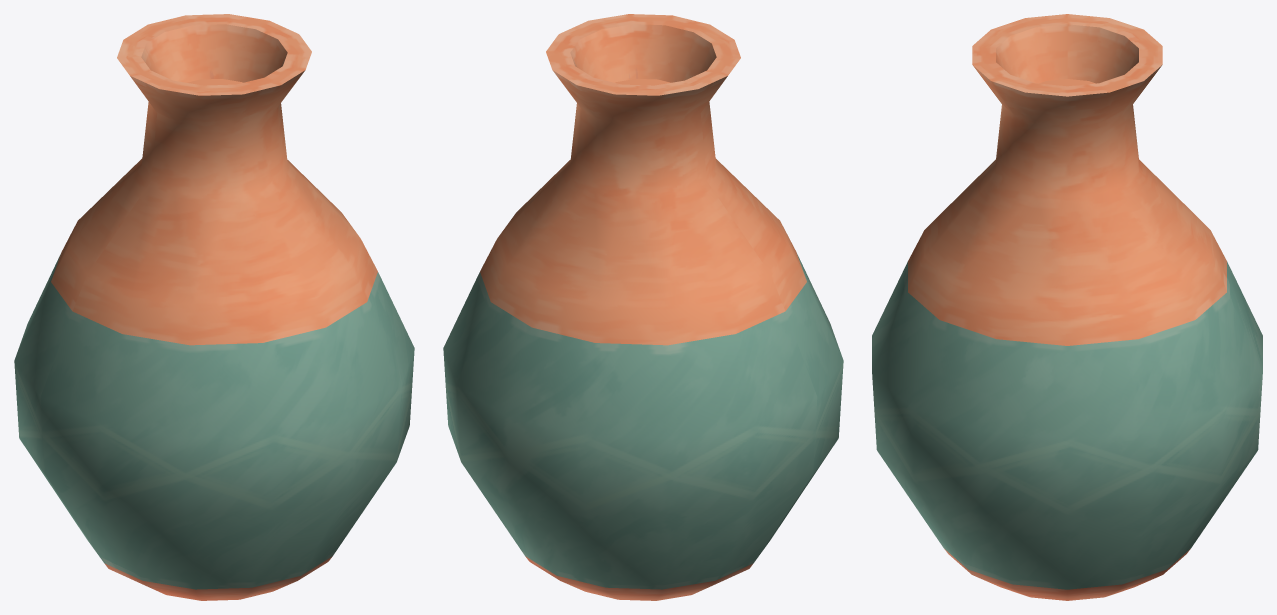
File: vase.fbx
3 views of the same model, side by side, from view 1: azimuth 30°, elevation 25°; view 2: azimuth 150°, elevation 25°; view 3: azimuth 270°, elevation 25° (orthographic).
Visible parts, largest first — view 1: vase; view 2: vase; view 3: vase.
Boxes of the visible parts, x1,y1,x2,y2 form: vase: (14,14,414,600); vase: (443,14,843,600); vase: (872,14,1262,600).
Size of the model in its own units: 1.64 by 2.3 by 1.6.
Materials: 1 (1 with a texture image).
